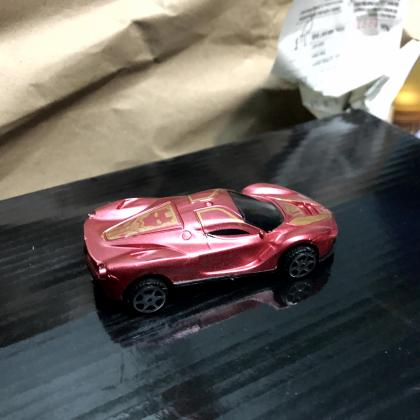Car: (83, 183, 338, 316)
